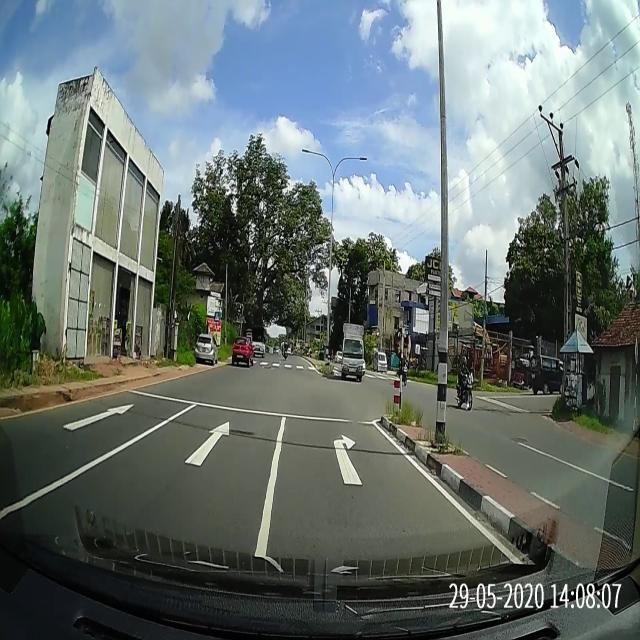Strelka vpered: (183, 420, 230, 466), (62, 404, 135, 432)
Strelka vpravo: (334, 434, 362, 485)
